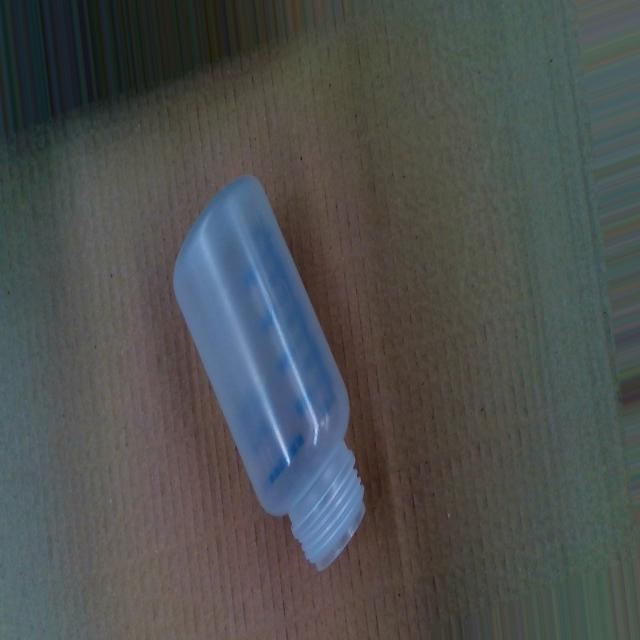bottle: (169, 169, 369, 573)
